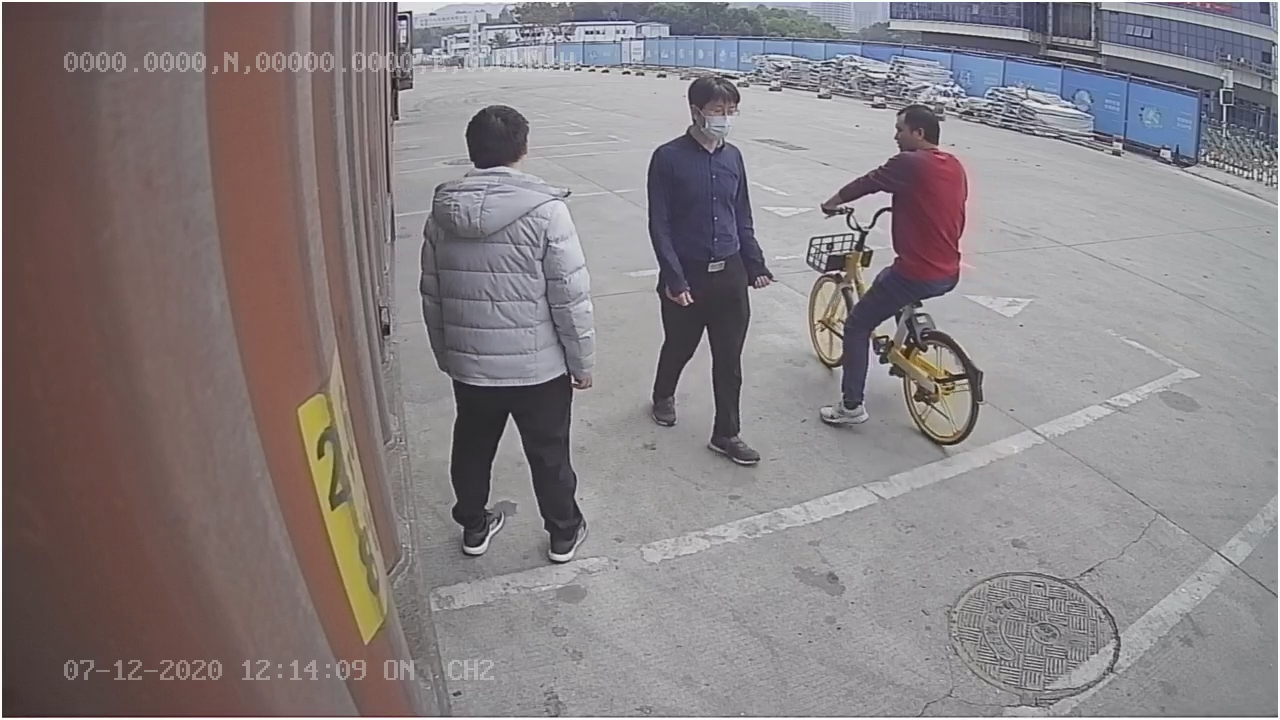person: (645, 63, 771, 473)
